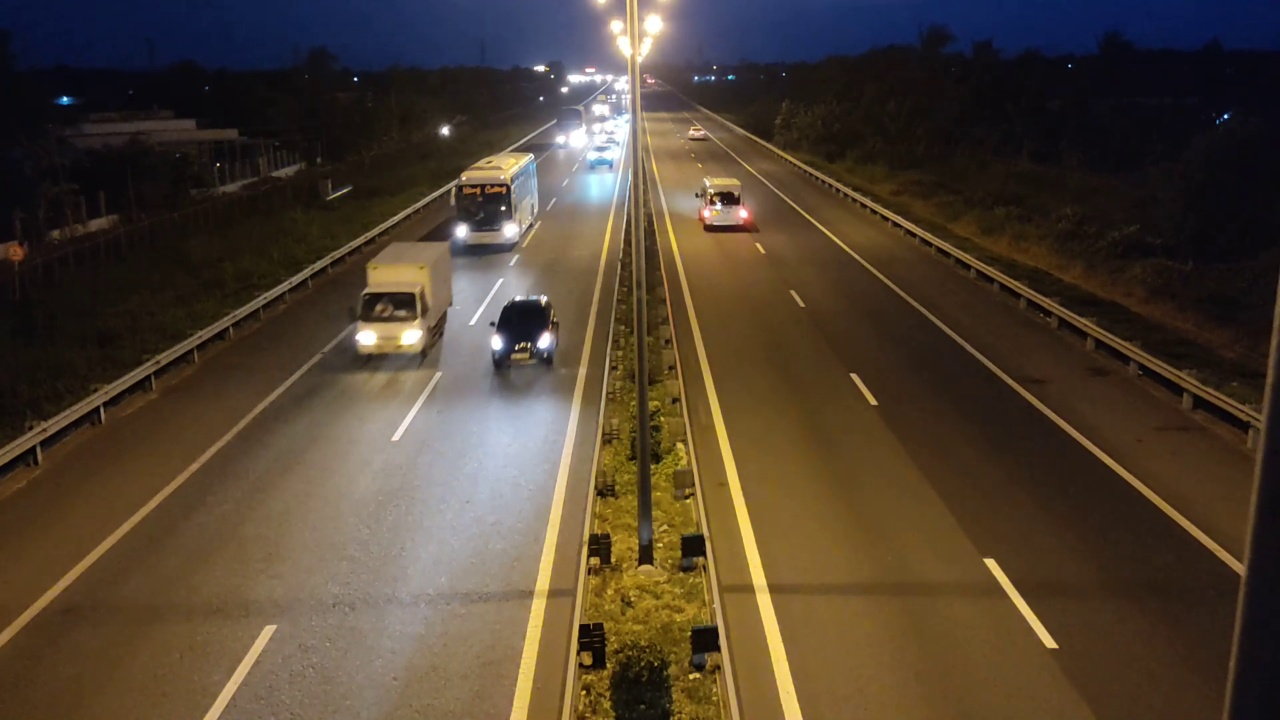bus: (451, 151, 539, 253)
car: (489, 294, 559, 371), (695, 177, 755, 231), (586, 143, 621, 171)
truck: (353, 240, 455, 366)
